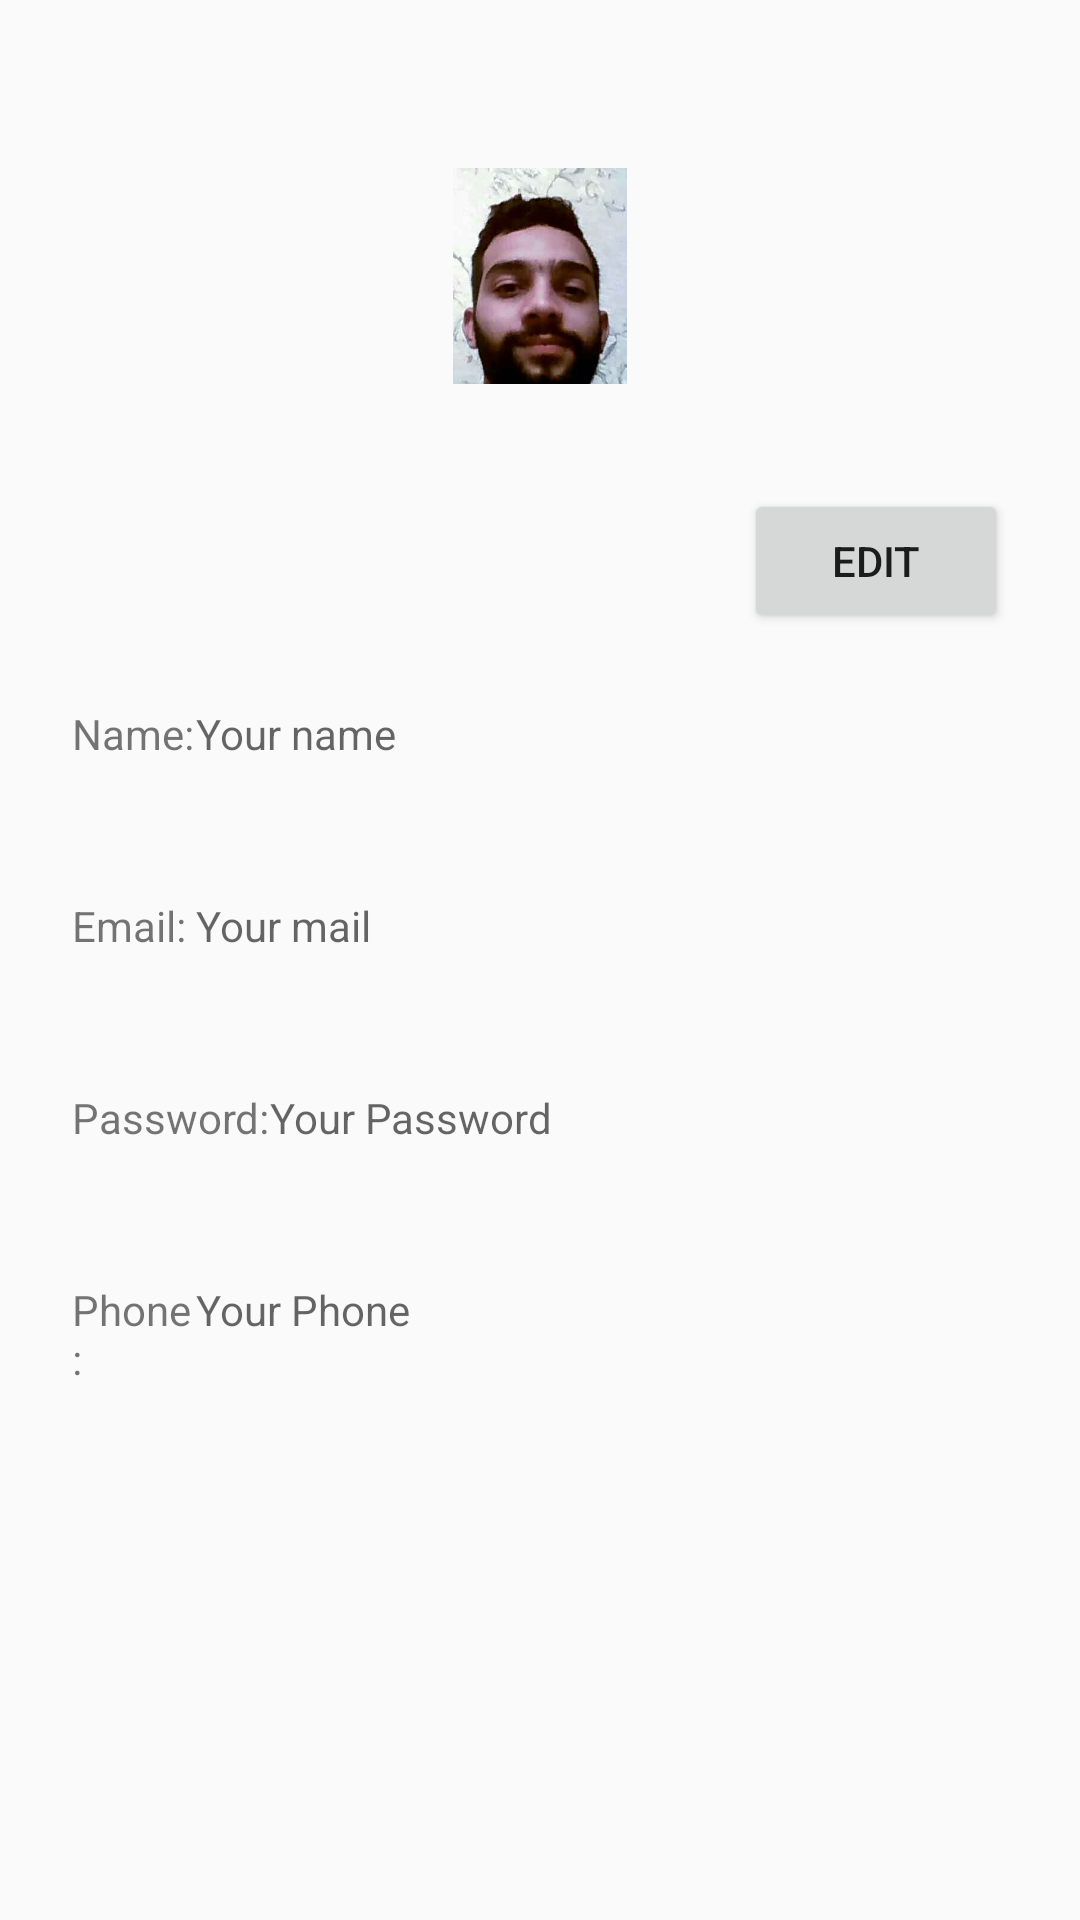

Named icons in this screenshot (1080×1920) and their centers, point (x, y):
face: point (540, 276)
